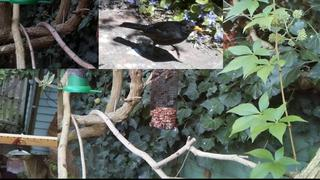blackbird: (119, 20, 203, 61)
